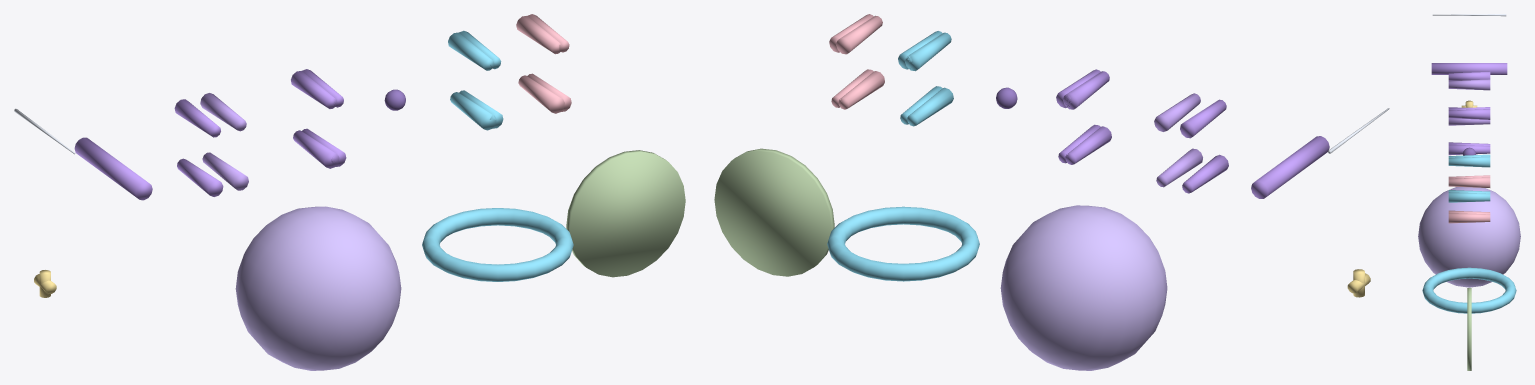
File: division_kit.glb
3 renders of one model, left to right at view 1: azimuth 30°, elevation 25°; view 2: azimuth 150°, elevation 25°; view 3: azimuth 270°, elevation 25°, orthographic. The views are drawn at different scales.
Parts seen in each view (by area): view 1: nuclear_envelope, cell_plate, cleavage_furrow, homolog_b, chromosome_dupl, homolog_a, chromosome_single, chromatid_right, chromatid_left; view 2: nuclear_envelope, cell_plate, cleavage_furrow, homolog_b, chromosome_dupl, homolog_a, chromosome_single, chromatid_left, chromatid_right; view 3: nuclear_envelope, cleavage_furrow, homolog_b, homolog_a, chromosome_dupl, chromosome_single, chromatid_right, cell_plate, chromatid_left, spindle_fibre.
Boxes of the visible parts, <box> form: nuclear_envelope: <box>235,206,401,370</box>; cell_plate: <box>566,150,685,277</box>; cleavage_furrow: <box>422,208,573,281</box>; homolog_b: <box>516,14,571,113</box>; chromosome_dupl: <box>291,69,346,168</box>; homolog_a: <box>448,30,503,130</box>; chromosome_single: <box>74,137,152,200</box>; chromatid_right: <box>200,93,248,190</box>; chromatid_left: <box>174,99,223,196</box>; nuclear_envelope: <box>1000,205,1167,370</box>; cell_plate: <box>714,148,834,276</box>; cleavage_furrow: <box>827,206,979,281</box>; homolog_b: <box>829,14,884,109</box>; chromosome_dupl: <box>1056,69,1111,164</box>; homolog_a: <box>898,31,953,126</box>; chromosome_single: <box>1251,136,1329,198</box>; chromatid_left: <box>1180,99,1228,193</box>; chromatid_right: <box>1154,93,1202,187</box>; nuclear_envelope: <box>1418,187,1520,287</box>; cleavage_furrow: <box>1422,267,1516,313</box>; homolog_b: <box>1448,175,1490,223</box>; homolog_a: <box>1448,154,1490,202</box>; chromosome_dupl: <box>1448,107,1490,155</box>; chromosome_single: <box>1431,63,1507,74</box>; chromatid_right: <box>1448,79,1490,125</box>; cell_plate: <box>1467,288,1471,370</box>; chromatid_left: <box>1448,72,1490,108</box>; spindle_fibre: <box>1432,14,1506,16</box>.
Bounding box in the file's own units: 3.77 × 1.68 × 0.84.
